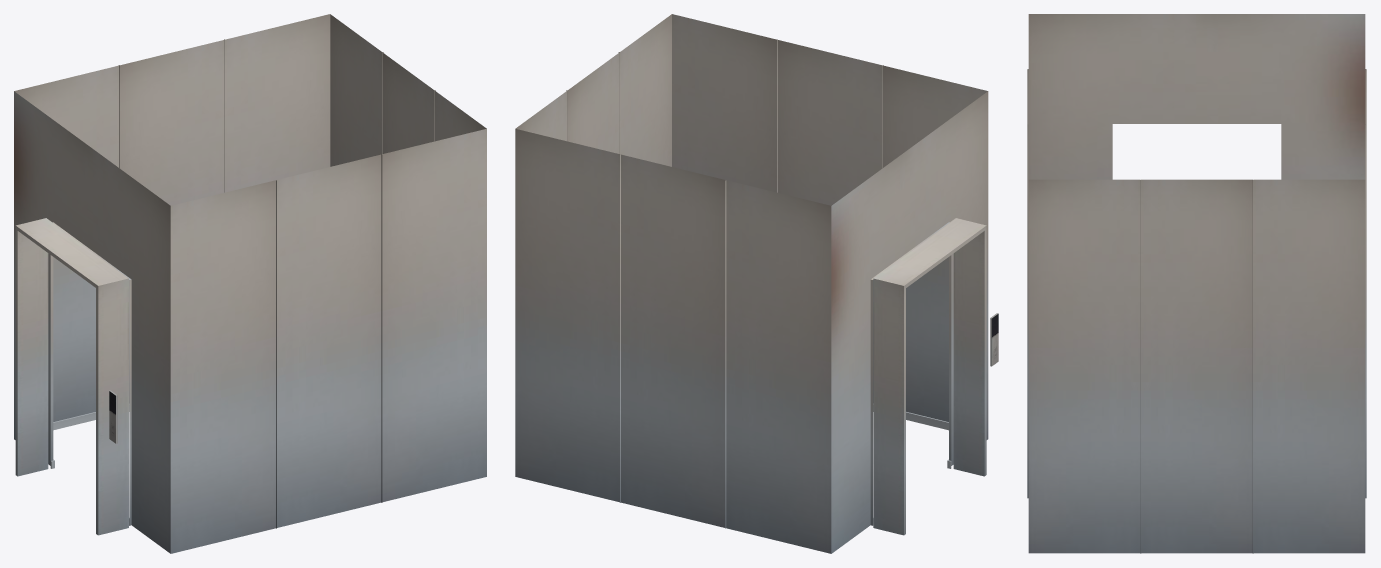
Rendered from LouDao-27.FBX.
The picture shows the model from 3 angles, left to right: view 1: azimuth 30°, elevation 25°; view 2: azimuth 150°, elevation 25°; view 3: azimuth 270°, elevation 25°; orthographic projection. The views are drawn at different scales.
Parts seen in each view (by area): view 1: LouDao-27; view 2: LouDao-27; view 3: LouDao-27.
Boxes of the visible parts, box(x1,y1,x2,y2) form: LouDao-27: box(14, 14, 486, 553); LouDao-27: box(515, 14, 998, 553); LouDao-27: box(1027, 14, 1366, 553).
Bounding box in the file's own units: 2959 × 2790 × 2297.
